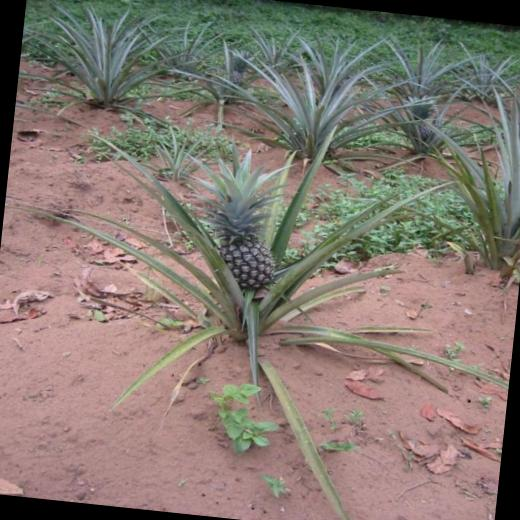Mango: (166, 129, 308, 295), (404, 92, 440, 136), (228, 47, 251, 83)
